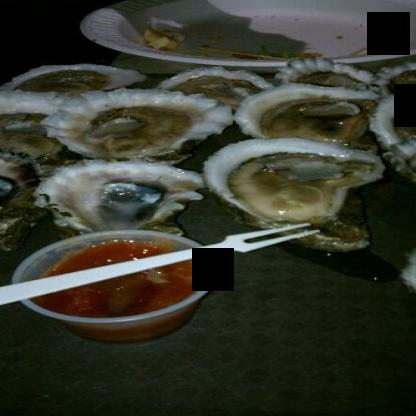oyster: (208, 132, 373, 238), (44, 88, 218, 159), (47, 159, 189, 243), (239, 84, 367, 144), (176, 61, 278, 119), (0, 89, 73, 160), (373, 88, 415, 188), (0, 151, 36, 242)
